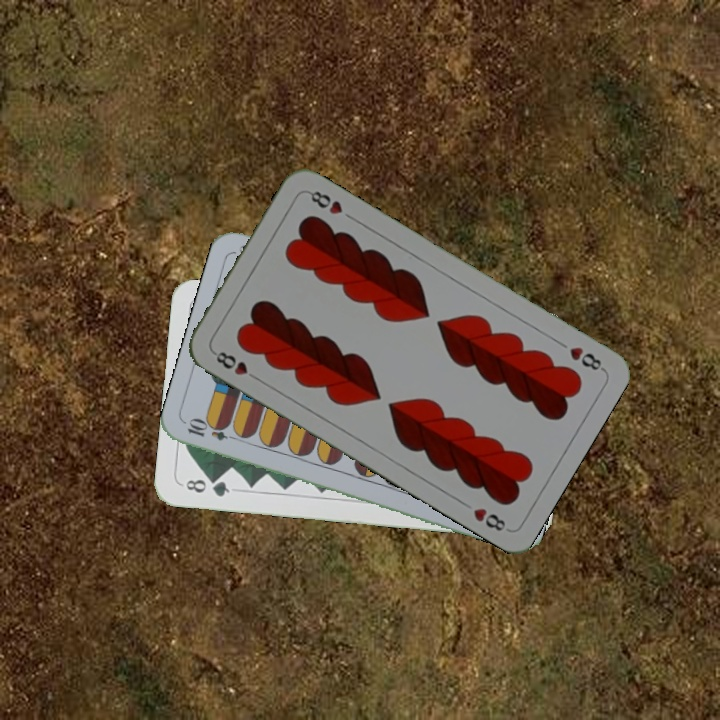E10: (183, 417, 242, 444)
G8: (181, 474, 232, 500)
H8: (209, 347, 262, 383), (565, 342, 607, 374)
